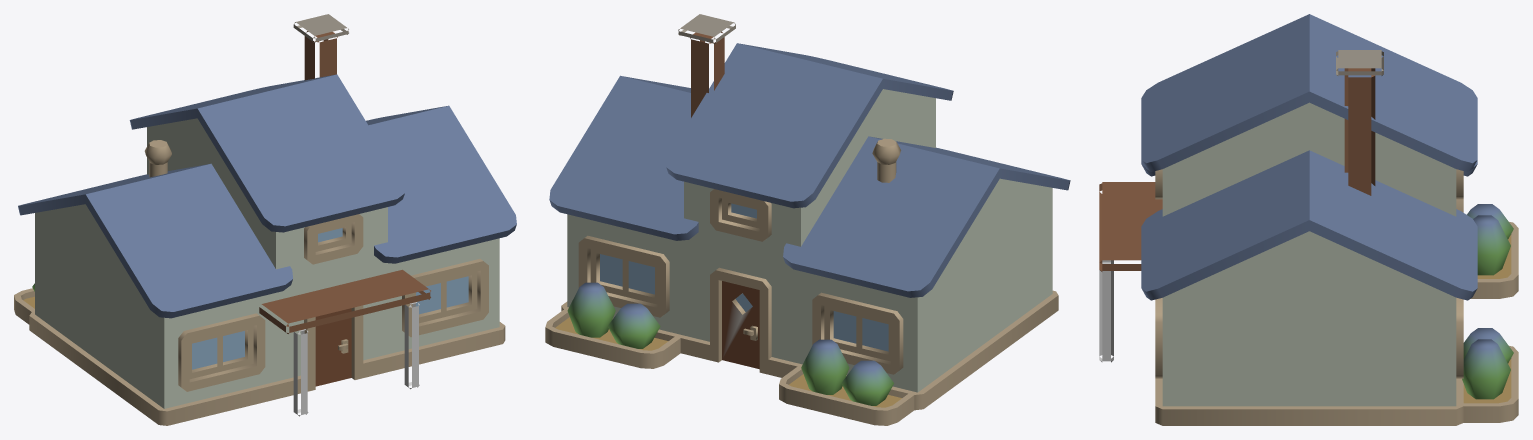
The model's file is house-a.glb.
The picture shows the model from 3 angles, left to right: view 1: azimuth 30°, elevation 25°; view 2: azimuth 150°, elevation 25°; view 3: azimuth 270°, elevation 25°; orthographic projection. The views are drawn at different scales.
Parts seen in each view (by area): view 1: house-a; view 2: house-a; view 3: house-a.
Boxes of the visible parts, <box> form: house-a: <box>14,14,516,425</box>; house-a: <box>545,14,1070,425</box>; house-a: <box>1099,14,1518,425</box>.
Bounding box in the file's own units: 0.85 × 0.6155 × 0.7473.
